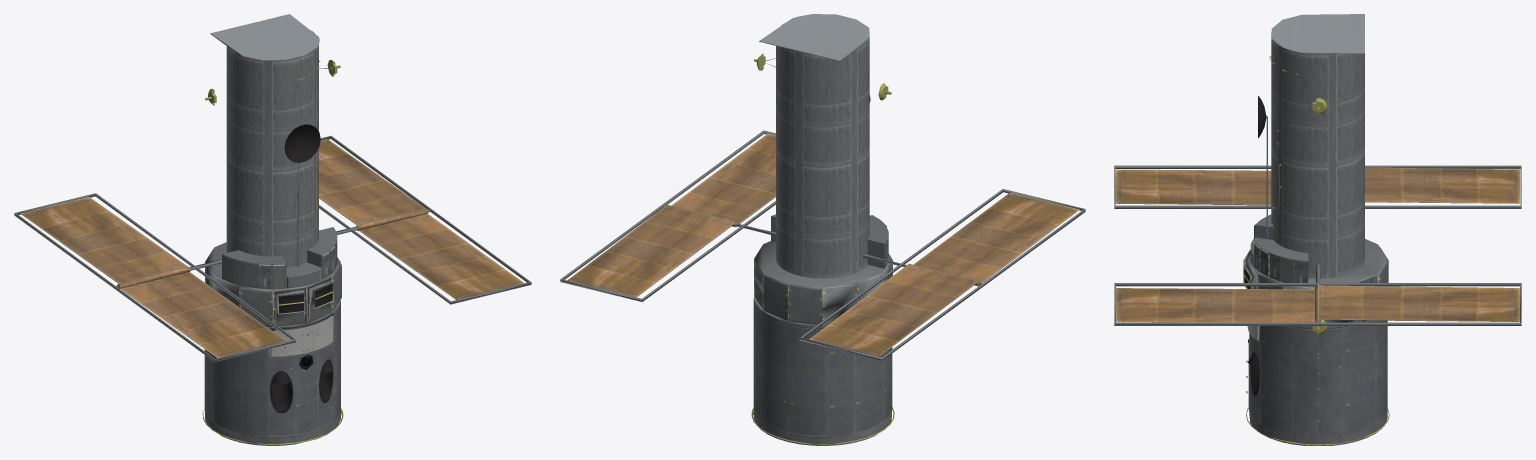
File: hubble-telescope.glb
3 renders of one model, left to right at view 1: azimuth 30°, elevation 25°; view 2: azimuth 150°, elevation 25°; view 3: azimuth 270°, elevation 25°, orthographic.
Parts seen in each view (by area): view 1: hst; view 2: hst; view 3: hst.
Boxes of the visible parts, x1,y1,x2,y2 form: hst: (14,14,531,445); hst: (560,14,1085,445); hst: (1114,14,1521,445).
Bounding box in the file's own units: 11.47 × 13.2 × 12.56.
5 materials, 5 textured.
